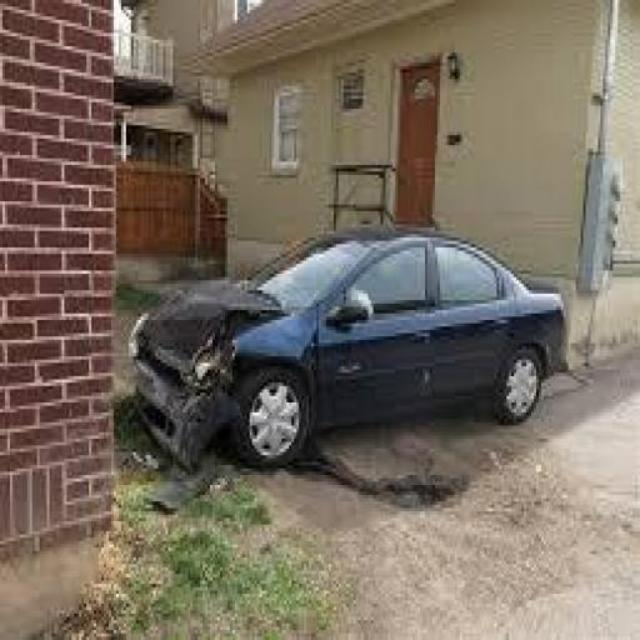dislocated part: (132, 276, 303, 476)
